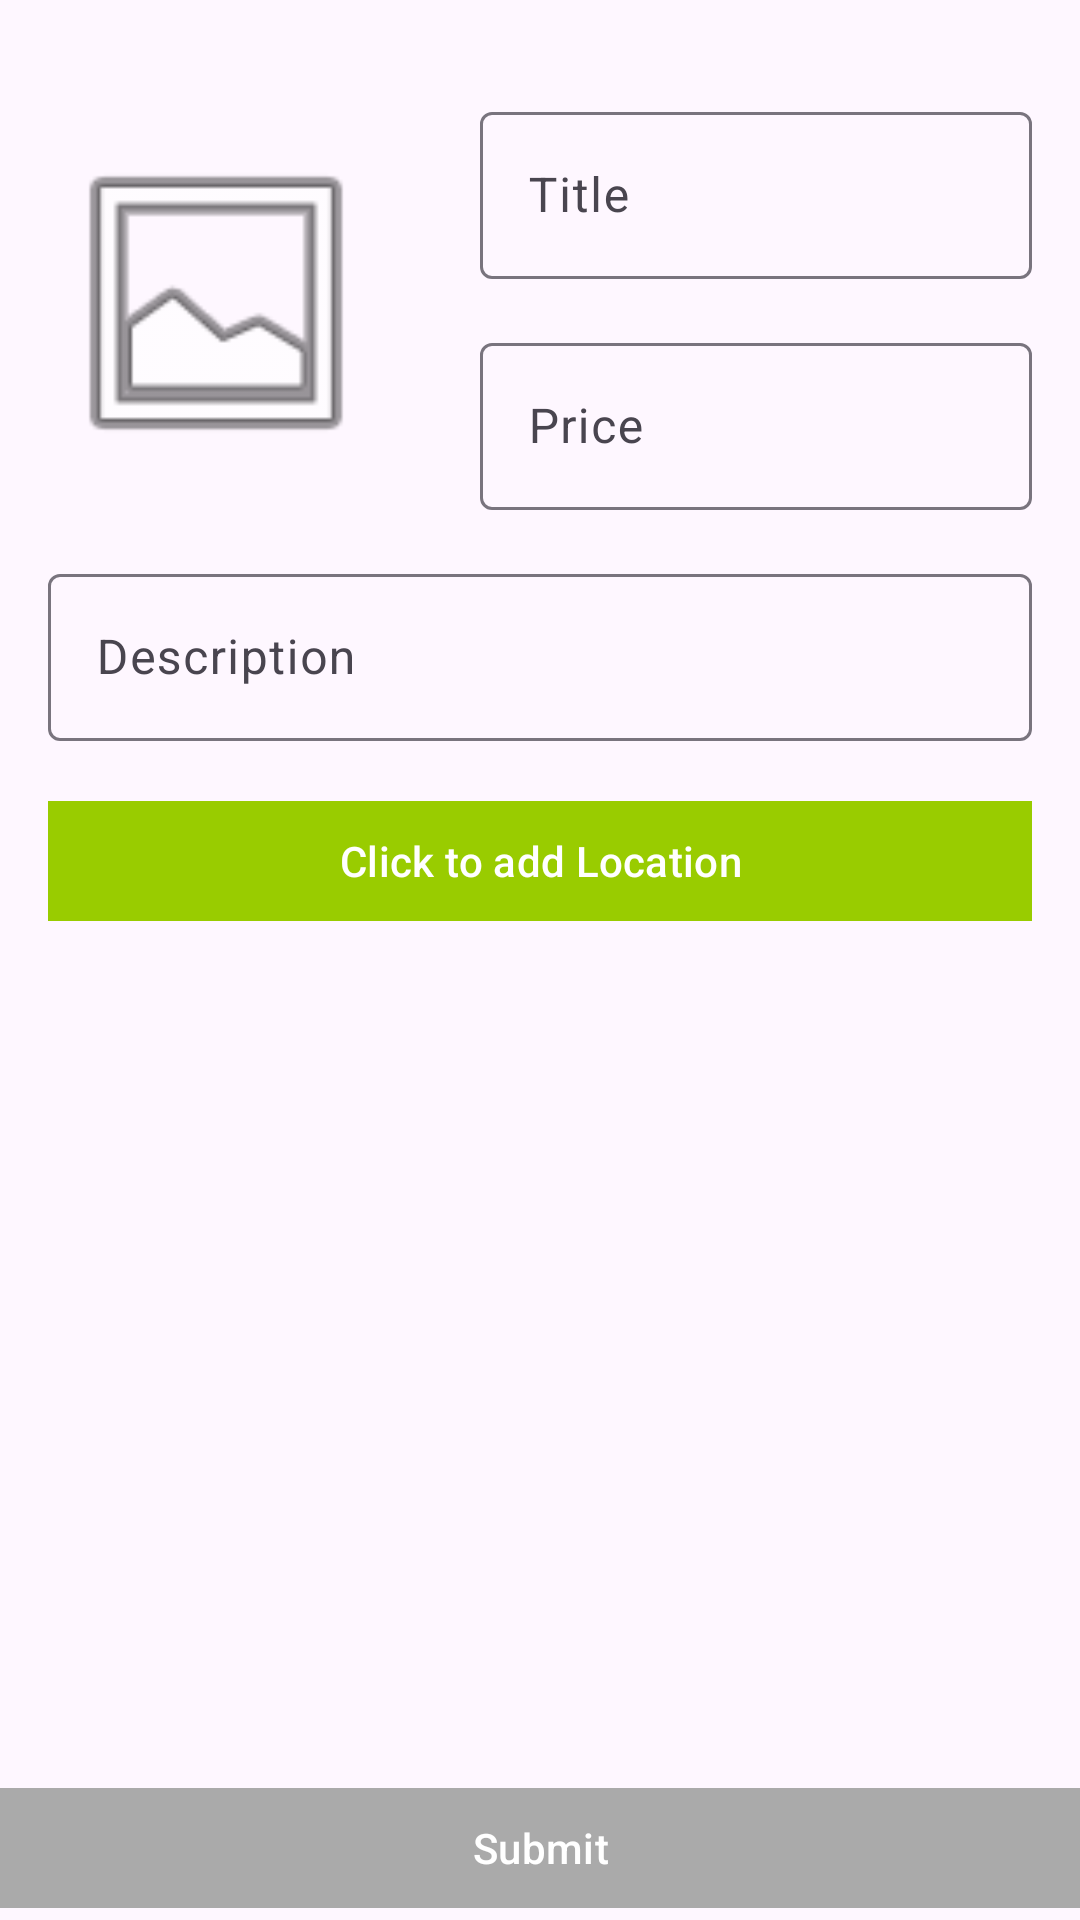

Screen size 1080 × 1920. Icon name, then its box in pixels as (x1, y1, x2, y2):
gallery: (89, 176, 343, 430)
